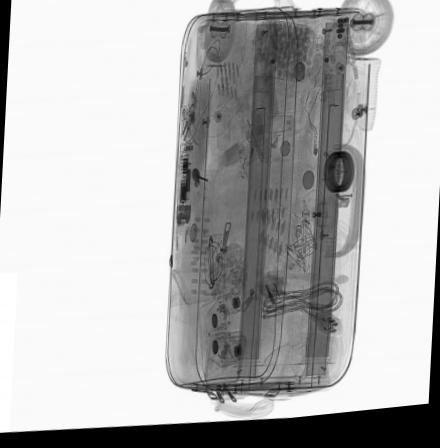Lighter: (239, 132, 261, 187)
